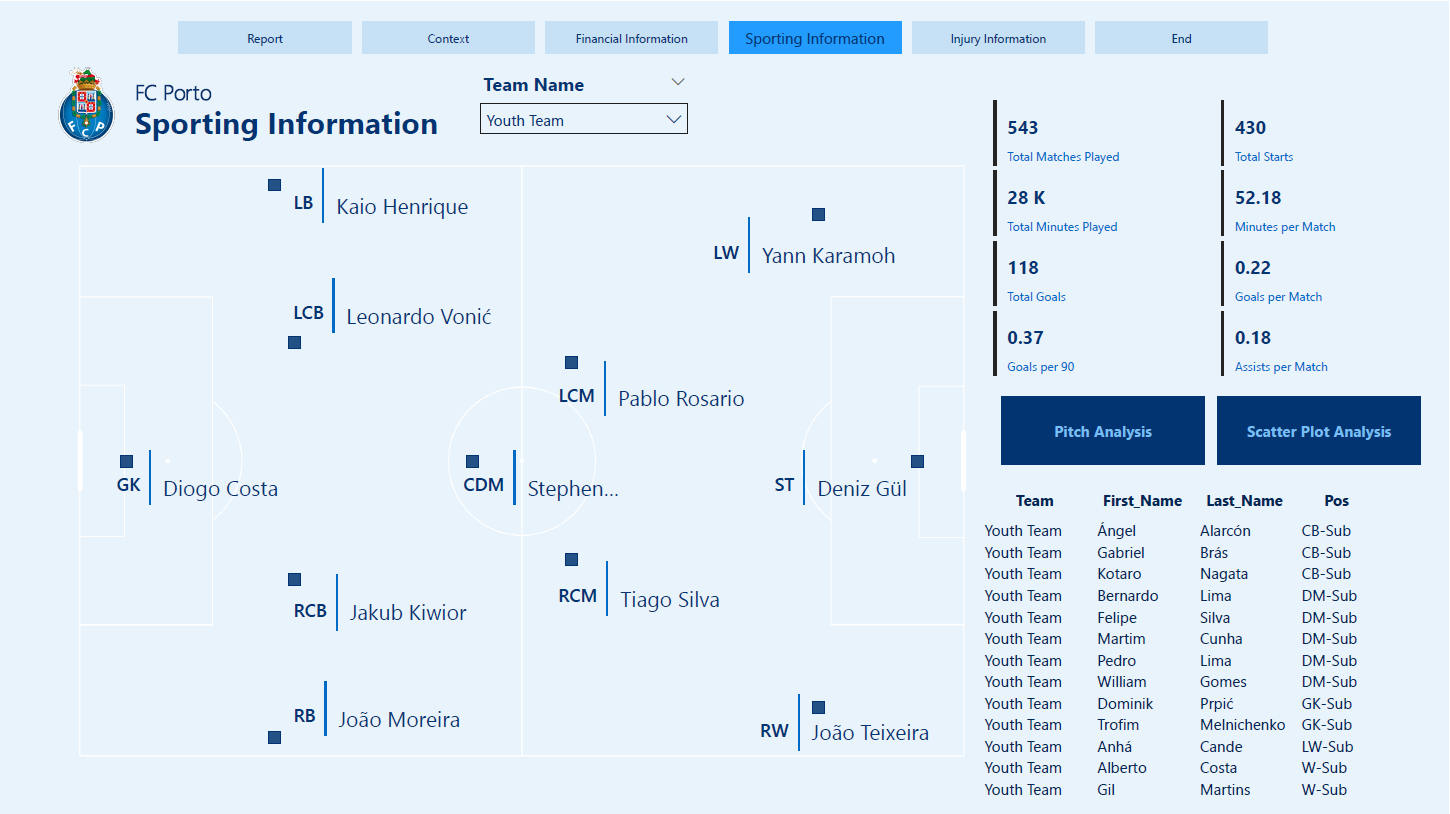

Layout of this report page (visuals, bound fields, positions):
{"tool":"powerbi","page":{"name":"Sporting Information","canvas":[1280,720],"ordinal":3},"visuals":[{"type":"group","id":"g1","title":"Grupo 1","box":[37.5,53.9,375.9,76.6],"z":0},{"type":"image","box":[37.5,53.9,76.2,76.2],"z":0,"group":"g1"},{"type":"textbox","box":[113.4,83,300,47.5],"z":1000,"group":"g1"},{"type":"scatterChart","title":"Pitch","fields":{"X":["Personal_Information.X"],"Y":["Personal_Information.Y"]},"box":[63.2,131.3,795.6,542.7],"z":1000},{"type":"slicer","fields":{"Values":["Teams.Team_Name"]},"box":[413.8,56.6,203.8,71.2],"z":2000},{"type":"textbox","box":[113.7,61.4,105,41.2],"z":2000,"group":"g1"},{"type":"cardVisual","title":"GK","fields":{"Data":["_Measures.Full Name"],"Rows":["Personal_Information.Pos"]},"box":[90.5,371.6,238.3,98.2],"z":3000},{"type":"cardVisual","title":"LB","fields":{"Data":["_Measures.Full Name"],"Rows":["Personal_Information.Pos"]},"box":[246.1,122.6,238.3,98.2],"z":4000},{"type":"cardVisual","title":"LCM","fields":{"Data":["_Measures.Full Name"],"Rows":["Personal_Information.Pos"]},"box":[246.1,219.8,238.3,98.2],"z":5000},{"type":"cardVisual","title":"RCB","fields":{"Data":["_Measures.Full Name"],"Rows":["Personal_Information.Pos"]},"box":[246.1,482.4,238.3,98.2],"z":6000},{"type":"cardVisual","title":"RB","fields":{"Data":["_Measures.Full Name"],"Rows":["Personal_Information.Pos"]},"box":[246.1,575.8,238.3,98.2],"z":7000},{"type":"cardVisual","title":"CDM","fields":{"Data":["_Measures.Full Name"],"Rows":["Personal_Information.Pos"]},"box":[395.9,371.6,238.3,98.2],"z":8000},{"type":"cardVisual","title":"RCM","fields":{"Data":["_Measures.Full Name"],"Rows":["Personal_Information.Pos"]},"box":[480.5,469.8,238.3,98.2],"z":9000},{"type":"cardVisual","title":"LCM","fields":{"Data":["_Measures.Full Name"],"Rows":["Personal_Information.Pos"]},"box":[480.5,292.8,238.3,98.2],"z":10000},{"type":"cardVisual","title":"LW","fields":{"Data":["_Measures.Full Name"],"Rows":["Personal_Information.Pos"]},"box":[616.7,166.3,238.3,98.2],"z":11000},{"type":"cardVisual","title":"RW","fields":{"Data":["_Measures.Full Name"],"Rows":["Personal_Information.Pos"]},"box":[657.5,588.4,238.3,98.2],"z":12000},{"type":"cardVisual","title":"ST","fields":{"Data":["_Measures.Full Name"],"Rows":["Personal_Information.Pos"]},"box":[671.1,371.6,238.3,98.2],"z":13000},{"type":"tableEx","fields":{"Values":["Teams.Team_Name","Personal_Information.First_Name","Personal_Information.Last_Name","Personal_Information.Pos"]},"box":[859,426,421,294],"z":14000},{"type":"shape","box":[885,349,178.8,60],"z":15000},{"type":"shape","box":[1076.2,349,178.8,60],"z":16000},{"type":"cardVisual","title":"Metrics","fields":{"Data":["_Measures.Total Matches Played","_Measures.Total Starts","_Measures.Total Minutes Played","_Measures.Minutes per Match","_Measures.Total Goals","_Measures.Goals per Match","_Measures.Goals per 90","_Measures.Assists per Match"]},"box":[873,83,407,254],"z":17000},{"type":"pageNavigator","box":[158,18,964,28],"z":19000}]}

Visuals, with their boxes in screenshot pixels (x1, y1, x2, y2), scaled from the page's 1280x720 canvas onto the 1450x814 screenshot:
"Grupo 1" group: <bbox>42, 61, 468, 148</bbox>
image: <bbox>42, 61, 129, 147</bbox>
textbox: <bbox>128, 94, 468, 148</bbox>
"Pitch" scatterChart: <bbox>72, 148, 973, 762</bbox>
slicer - Teams.Team_Name: <bbox>469, 64, 700, 144</bbox>
textbox: <bbox>129, 69, 248, 116</bbox>
"GK" cardVisual: <bbox>103, 420, 372, 531</bbox>
"LB" cardVisual: <bbox>279, 139, 549, 250</bbox>
"LCM" cardVisual: <bbox>279, 248, 549, 360</bbox>
"RCB" cardVisual: <bbox>279, 545, 549, 656</bbox>
"RB" cardVisual: <bbox>279, 651, 549, 762</bbox>
"CDM" cardVisual: <bbox>448, 420, 718, 531</bbox>
"RCM" cardVisual: <bbox>544, 531, 814, 642</bbox>
"LCM" cardVisual: <bbox>544, 331, 814, 442</bbox>
"LW" cardVisual: <bbox>699, 188, 969, 299</bbox>
"RW" cardVisual: <bbox>745, 665, 1015, 776</bbox>
"ST" cardVisual: <bbox>760, 420, 1030, 531</bbox>
tableEx - Teams.Team_Name x Personal_Information.First_Name: <bbox>973, 482, 1449, 813</bbox>
shape: <bbox>1003, 395, 1205, 462</bbox>
shape: <bbox>1219, 395, 1422, 462</bbox>
"Metrics" cardVisual: <bbox>989, 94, 1449, 381</bbox>
pageNavigator: <bbox>179, 20, 1271, 52</bbox>
